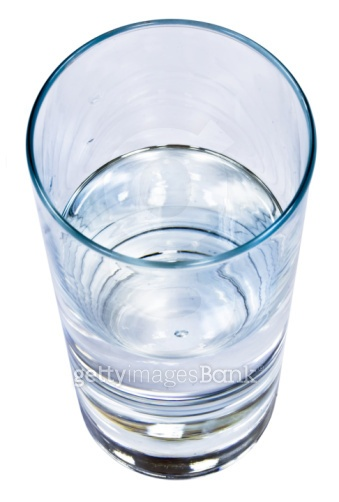glass of water: (30, 7, 313, 481)
